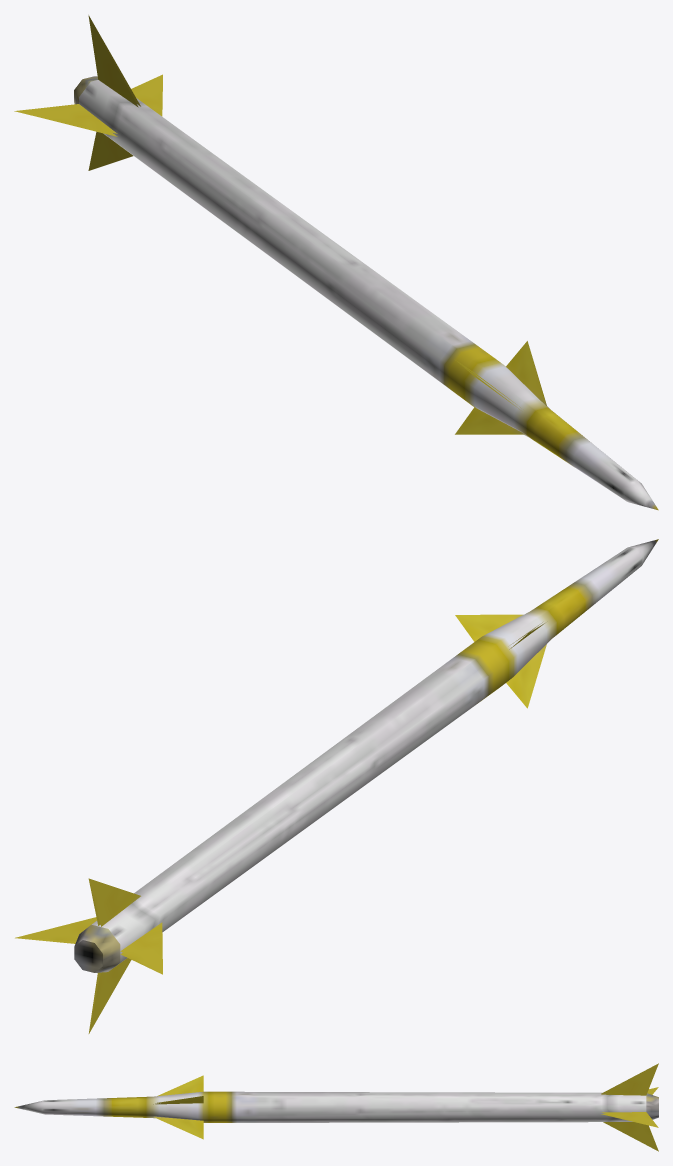
File: wpn_missile_space_s04_l2.fbx
3 views of the same model, one above another, from view 1: azimuth 30°, elevation 25°; view 2: azimuth 150°, elevation 25°; view 3: azimuth 270°, elevation 25° (orthographic). The views are drawn at different scales.
Visible parts, largest first — view 1: mesh_node; view 2: mesh_node; view 3: mesh_node.
Part boxes in pixels (x1,y1,x2,y2): mesh_node: [14, 15, 658, 510]; mesh_node: [15, 539, 658, 1033]; mesh_node: [14, 1063, 658, 1151].
Size of the model in its own units: 0.3011 by 0.3023 by 2.
Materials: 1 (1 with a texture image).
